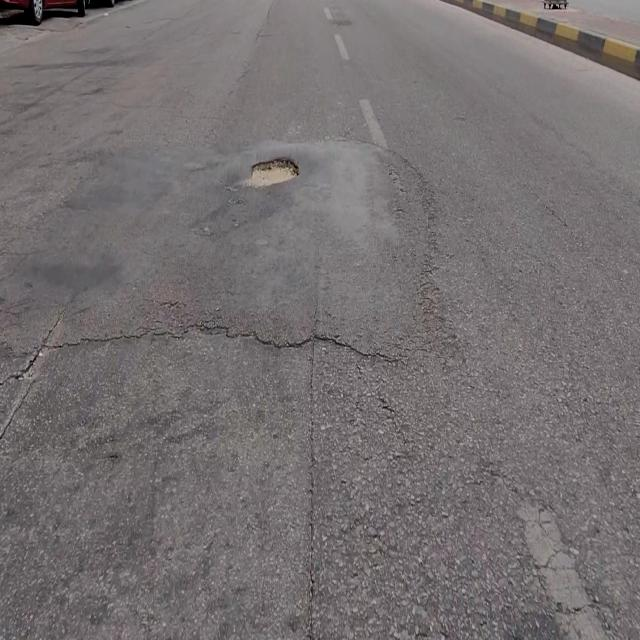Potholes: (248, 157, 301, 188)
